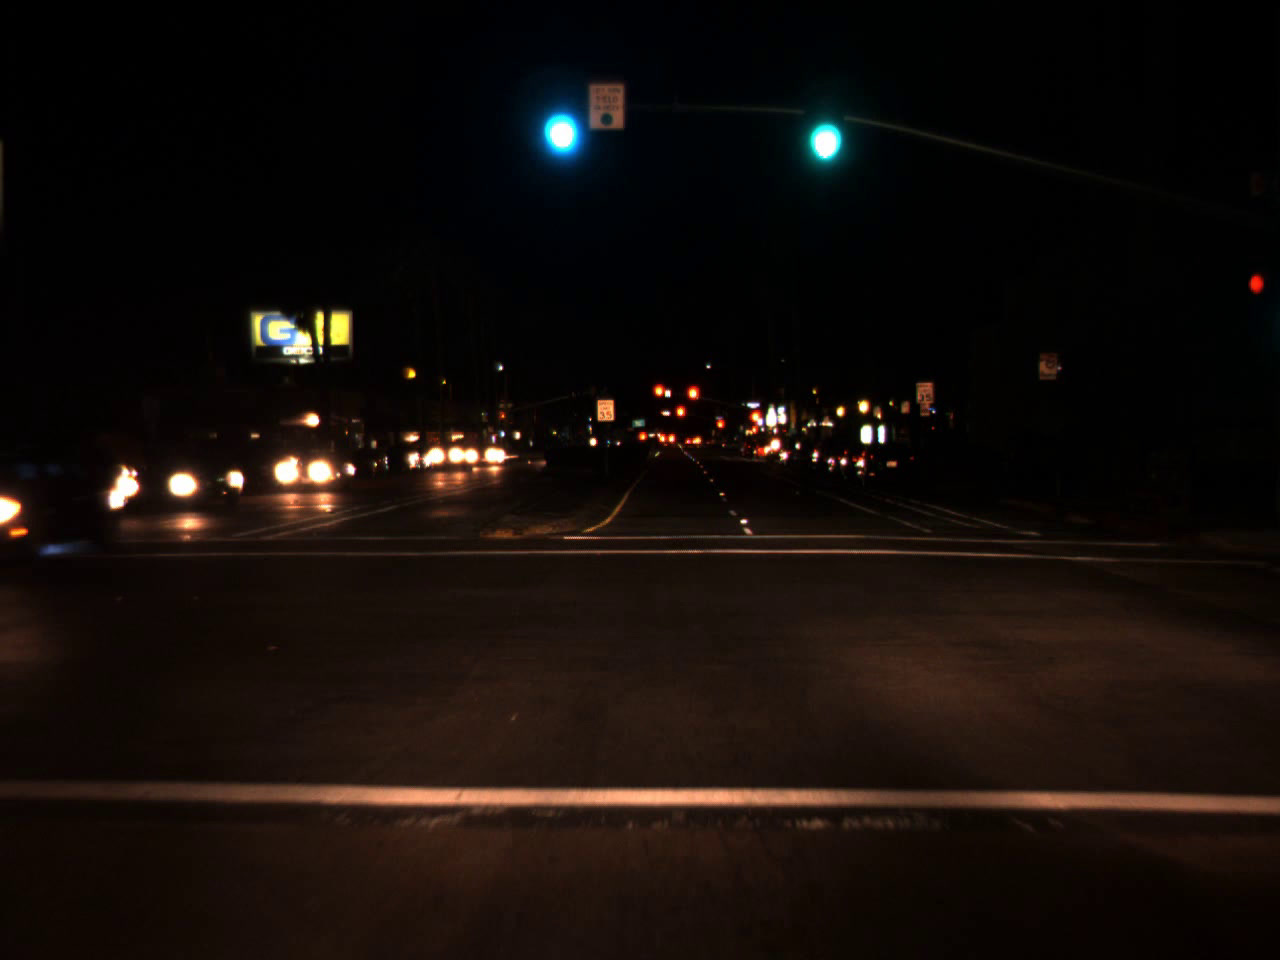go: (799, 84, 844, 171), (539, 89, 578, 158)
stop: (652, 382, 668, 411), (686, 385, 699, 414), (675, 403, 687, 430), (750, 408, 760, 432), (715, 418, 725, 439)
